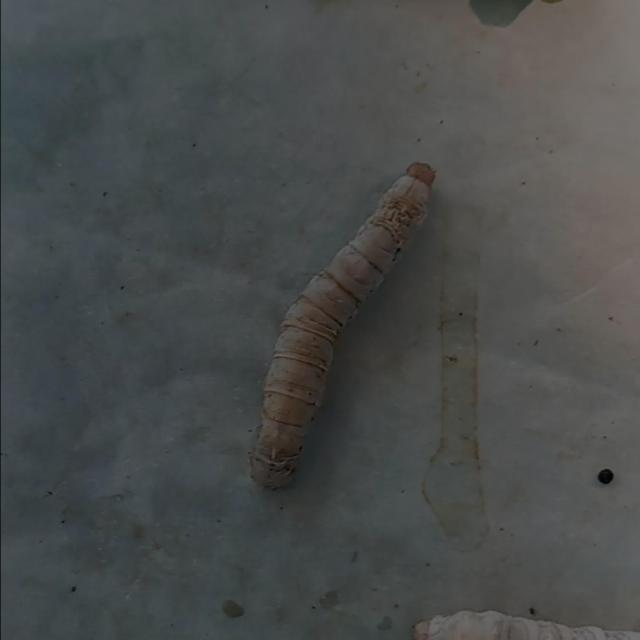Grasserie: (204, 135, 462, 507)
